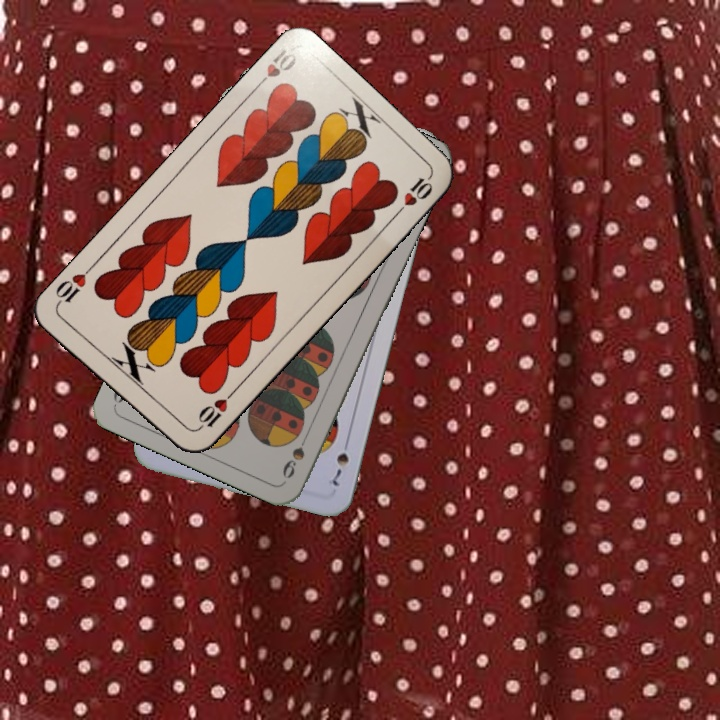H10: (250, 44, 299, 93), (191, 387, 237, 435)
S7: (328, 434, 352, 489)
S9: (278, 427, 313, 482)
